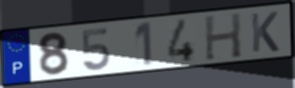1: (132, 20, 154, 69)
4: (166, 17, 197, 63)
5: (81, 26, 113, 72)
8: (37, 30, 71, 76)
H: (203, 11, 244, 62)
K: (249, 10, 281, 54)
